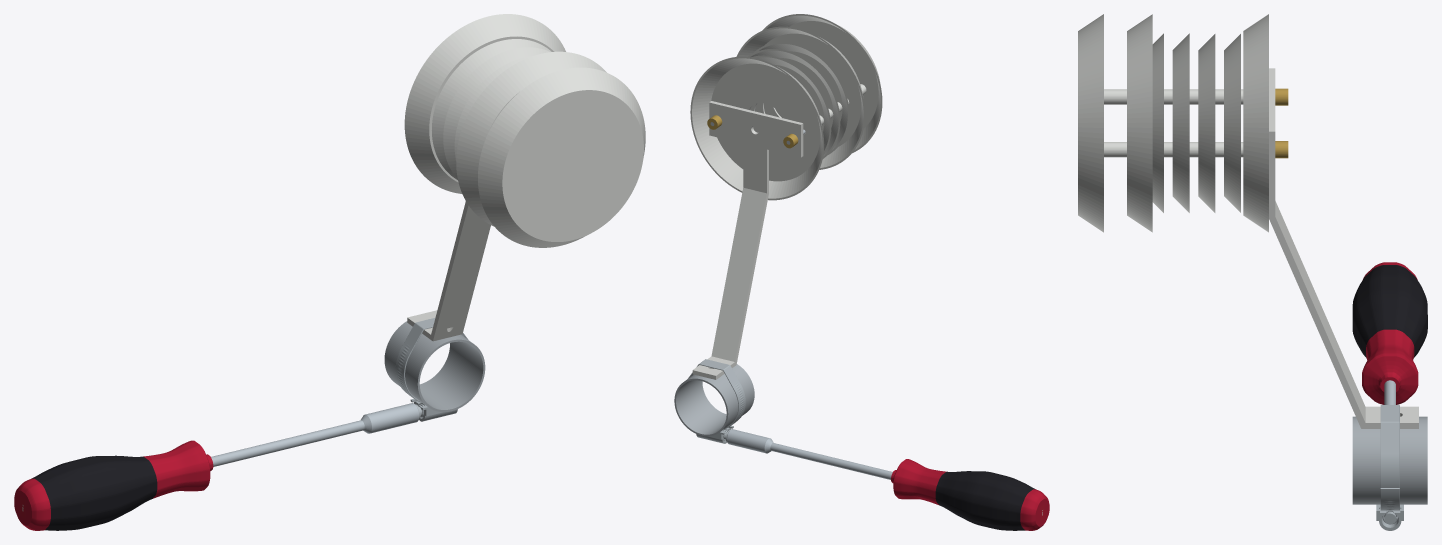
File: wiha_34123_rs3_clamp_fit.glb
The picture shows the model from 3 angles, left to right: view 1: azimuth 30°, elevation 25°; view 2: azimuth 150°, elevation 25°; view 3: azimuth 270°, elevation 25°; orthographic projection. The views are drawn at different scales.
Parts seen in each view (by area): view 1: rs3_shield_lamella_7, rs3_shield_lamella_1, tool_black_soft_grip, rs3_shield_lamella_6, isolated_mast_segment, rs3_inclined_mounting_bracket, tool_red_molded_core, tool_steel_shaft_and_blind_socket, rs3_shield_lamella_2, rs3_shield_lamella_3, continuous_stamped_band, rs3_shield_lamella_4; view 2: rs3_shield_lamella_1, rs3_inclined_mounting_bracket, tool_black_soft_grip, rs3_shield_lamella_6, rs3_shield_lamella_7, isolated_mast_segment, tool_red_molded_core, tool_steel_shaft_and_blind_socket, rs3_shield_lamella_4, rs3_shield_lamella_5, rs3_shield_lamella_3, continuous_stamped_band; view 3: rs3_shield_lamella_6, rs3_shield_lamella_1, rs3_shield_lamella_7, rs3_inclined_mounting_bracket, tool_black_soft_grip, isolated_mast_segment, tool_red_molded_core, rs3_shield_lamella_4, rs3_shield_lamella_3, rs3_shield_lamella_2, continuous_stamped_band, rs3_shield_lamella_5.
Part boxes in pixels (<box>): rs3_shield_lamella_7: <box>478,67,645,247</box>; rs3_shield_lamella_1: <box>404,14,565,193</box>; tool_black_soft_grip: <box>32,455,157,530</box>; rs3_shield_lamella_6: <box>456,51,606,226</box>; isolated_mast_segment: <box>384,321,485,412</box>; rs3_inclined_mounting_bracket: <box>407,201,490,341</box>; tool_red_molded_core: <box>14,440,213,530</box>; tool_steel_shaft_and_blind_socket: <box>211,403,419,466</box>; rs3_shield_lamella_2: <box>432,39,551,179</box>; rs3_shield_lamella_3: <box>443,47,550,178</box>; continuous_stamped_band: <box>395,318,468,402</box>; rs3_shield_lamella_4: <box>454,56,532,160</box>; rs3_shield_lamella_1: <box>690,56,824,200</box>; rs3_inclined_mounting_bracket: <box>692,101,803,379</box>; tool_black_soft_grip: <box>935,471,1035,530</box>; rs3_shield_lamella_6: <box>736,26,865,169</box>; rs3_shield_lamella_7: <box>762,14,882,153</box>; isolated_mast_segment: <box>674,364,754,436</box>; tool_red_molded_core: <box>891,459,1049,530</box>; tool_steel_shaft_and_blind_socket: <box>727,429,892,479</box>; rs3_shield_lamella_4: <box>748,49,840,158</box>; rs3_shield_lamella_5: <box>753,42,849,154</box>; rs3_shield_lamella_3: <box>751,55,831,155</box>; continuous_stamped_band: <box>688,359,745,428</box>; rs3_shield_lamella_6: <box>1127,14,1152,232</box>; rs3_shield_lamella_1: <box>1243,14,1268,232</box>; rs3_shield_lamella_7: <box>1078,14,1103,232</box>; rs3_inclined_mounting_bracket: <box>1269,68,1418,428</box>; tool_black_soft_grip: <box>1352,265,1427,357</box>; isolated_mast_segment: <box>1352,416,1427,504</box>; tool_red_molded_core: <box>1362,262,1418,404</box>; rs3_shield_lamella_4: <box>1172,33,1189,212</box>; rs3_shield_lamella_3: <box>1198,34,1215,212</box>; rs3_shield_lamella_2: <box>1224,34,1240,212</box>; continuous_stamped_band: <box>1380,405,1399,510</box>; rs3_shield_lamella_5: <box>1152,33,1163,212</box>.
Size of the model in its own units: 0.3013 by 0.2675 by 0.163.
9 materials, 1 textured.
